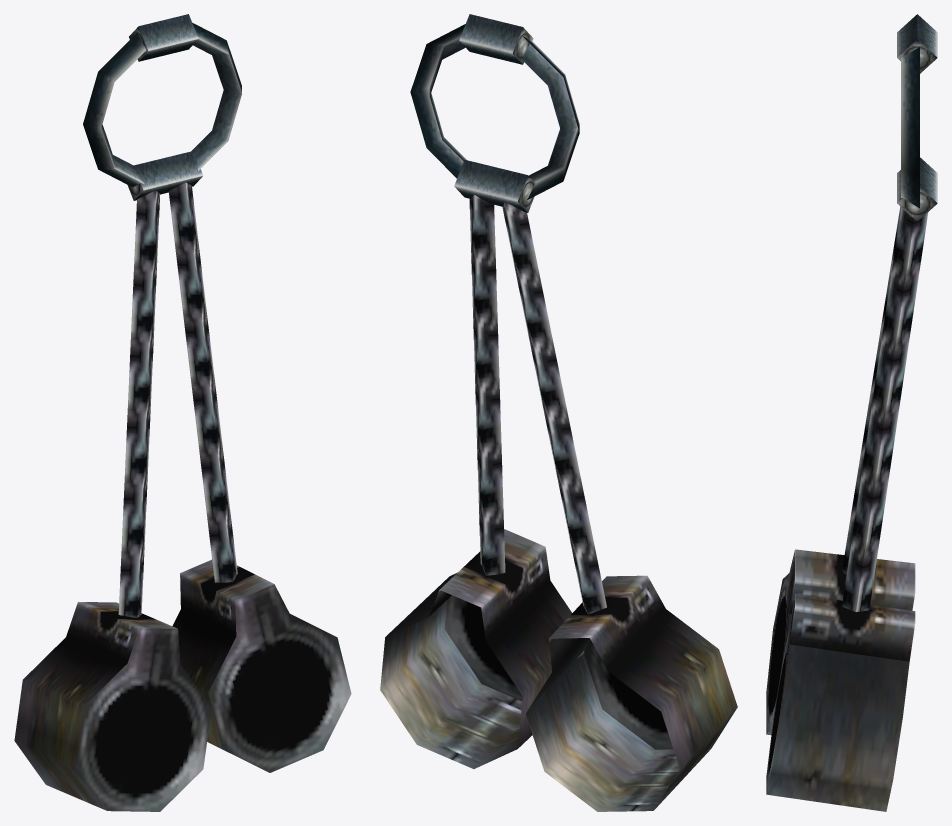
File: d_ring3.glb
The picture shows the model from 3 angles, left to right: view 1: azimuth 30°, elevation 25°; view 2: azimuth 150°, elevation 25°; view 3: azimuth 270°, elevation 25°; orthographic projection. The views are drawn at different scales.
Parts seen in each view (by area): view 1: d_ring3-col; view 2: d_ring3-col; view 3: d_ring3-col.
Boxes of the visible parts, left/top/right/bottom form: d_ring3-col: left=14, top=14, right=351, bottom=811; d_ring3-col: left=380, top=14, right=737, bottom=811; d_ring3-col: left=766, top=14, right=937, bottom=811.
Bounding box in the file's own units: 0.2776 × 0.692 × 0.1411.
Materials: 3 (3 with a texture image).
